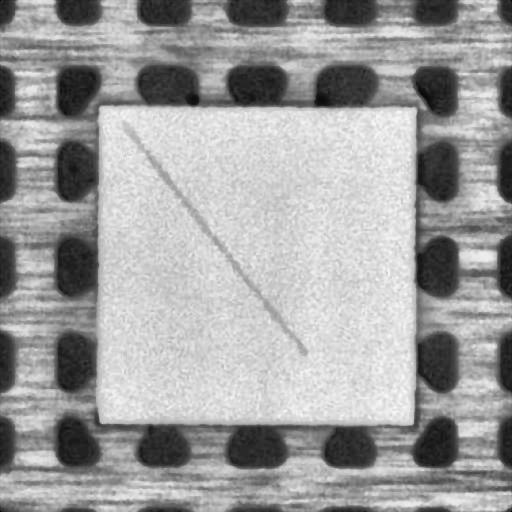DIE_CRACK: (123, 124, 304, 354)
